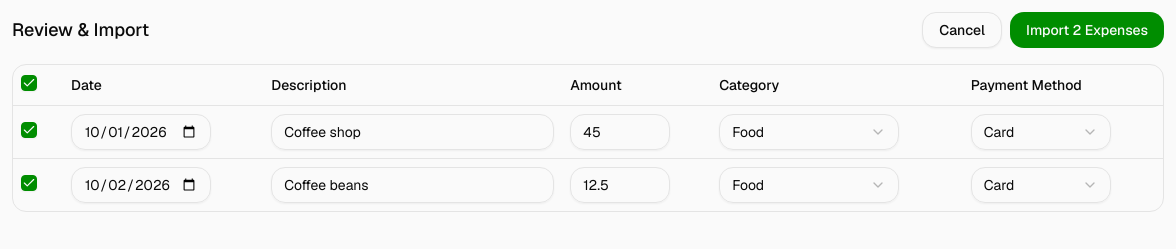
Test: ReviewTable amounts › lets the user import once an invalid row is deselected
The image size is (1176, 249).
Clear the 1st number field at (620, 132), box [570, 114, 670, 150]
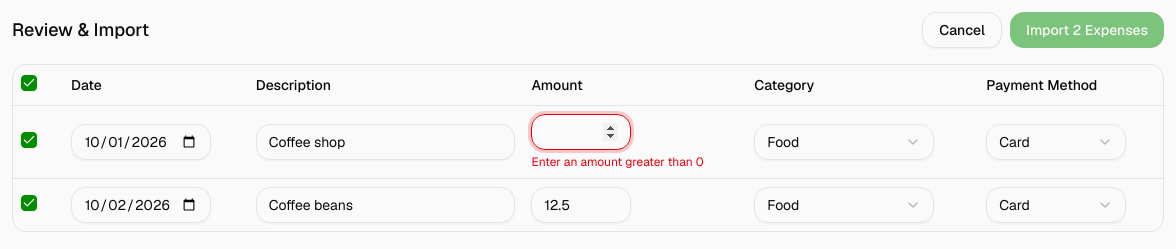
Click the 2nd checkbox at (29, 140), box [21, 132, 37, 148]
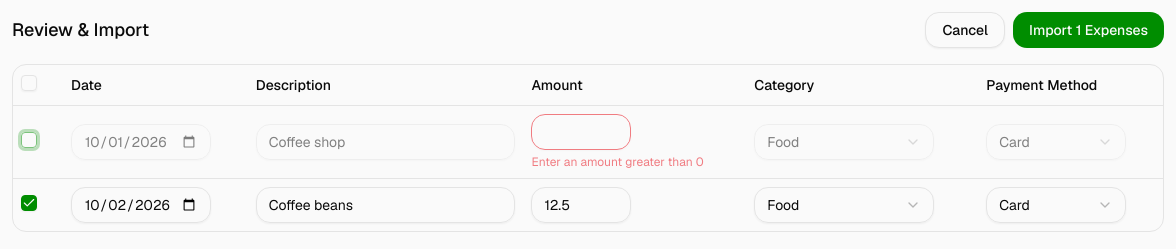
Now the button "Import 1 Expenses" is enabled, box [1013, 12, 1164, 48]
